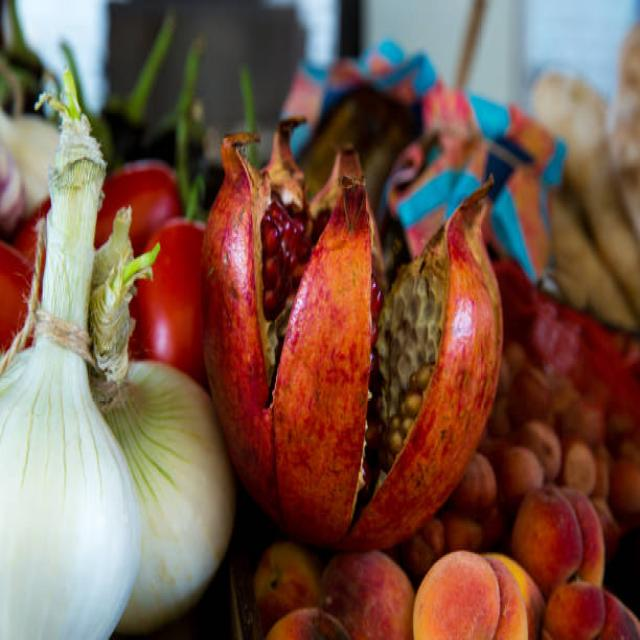overripe: (204, 106, 508, 562)
